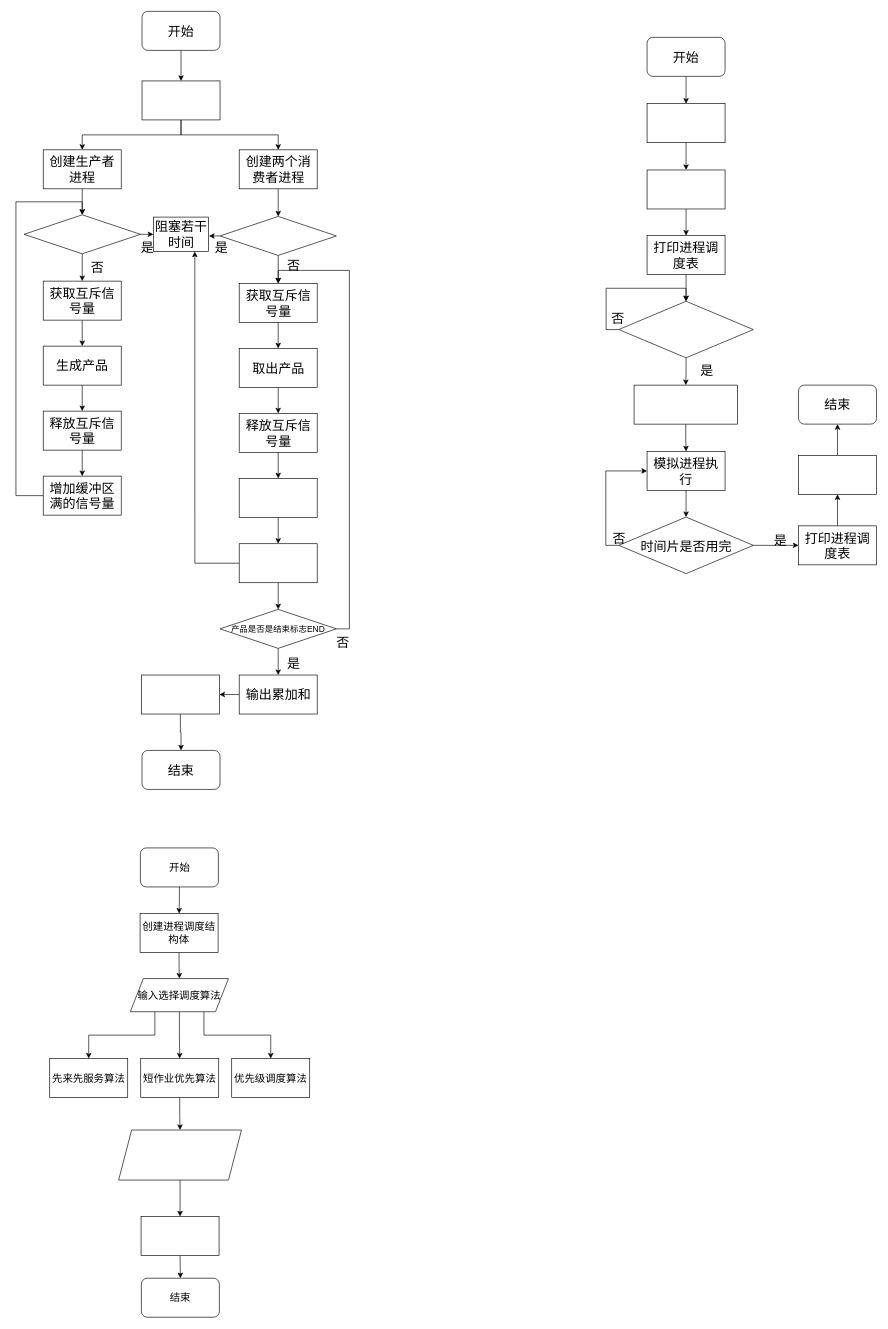
Some shapes in this 888 by 1329 pixel diagram are drawn without their labels. The shapes that lost their labels are listed below. From the top down, each one's box as (x1, y1, x2, y2) in pixels, then its label:
(141, 80, 220, 120): 创建共享内存和信号量
(646, 103, 725, 143): 队列处理
(646, 169, 725, 209): 处理就绪队列
(23, 214, 140, 254): 缓冲区是否已满
(219, 216, 336, 255): 缓冲区是否为空
(618, 301, 753, 358): 就绪队列是否为空
(633, 384, 737, 424): 取出就绪队列头到运行队列
(798, 455, 877, 494): 输出进程完成
(239, 478, 317, 517): 增加缓冲区空的信号量
(239, 543, 317, 583): 处理产品 (求和)
(141, 674, 219, 714): 清理信号量和共享内存
(118, 1129, 241, 1180): 输入模拟进程数。进程名称、运行时间和优先级
(140, 1216, 219, 1255): 完成队列
